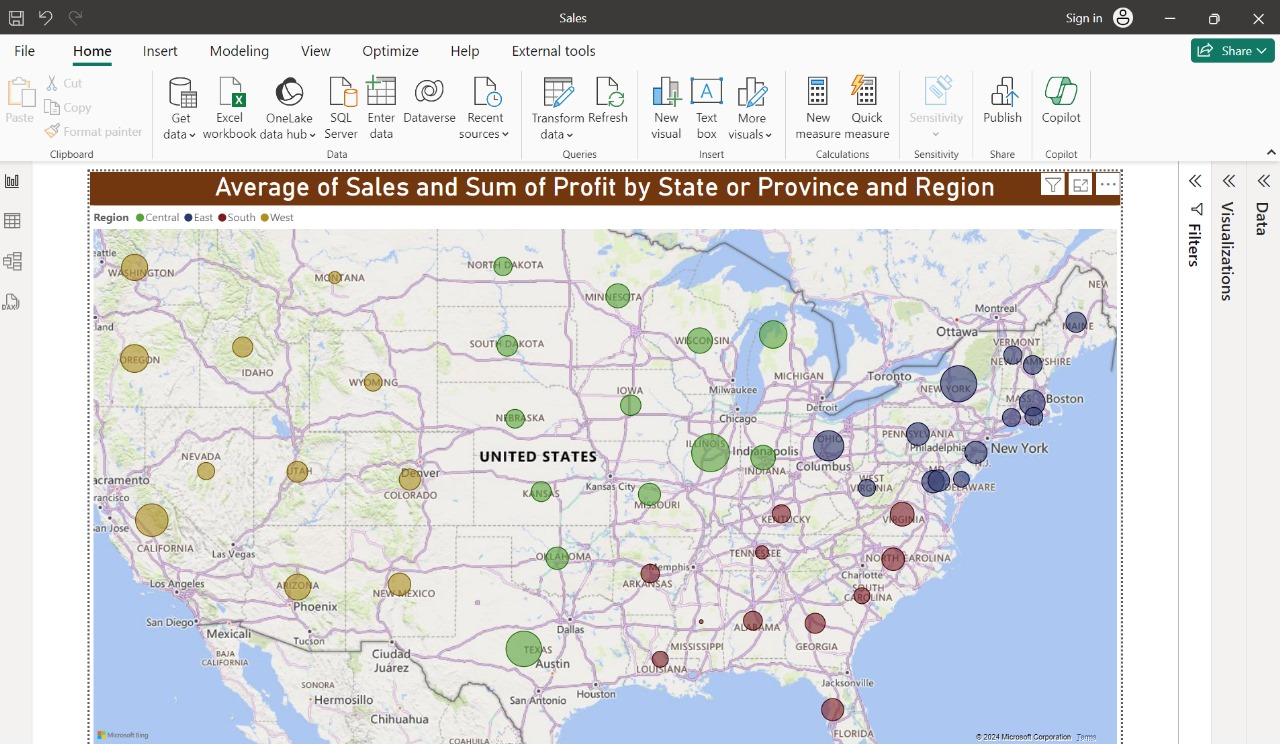

The page's visual inventory and layout, read from the dashboard file:
{"tool":"powerbi","page":{"name":"Page 2","canvas":[1280,720],"ordinal":1},"visuals":[{"type":"map","fields":{"Category":["Orders.State or Province"],"Series":["Orders.Region"],"Y":["Avg(Orders.Sales)"],"Size":["Sum(Orders.Profit)"]},"box":[0,0,1279.5,719.2],"z":0}]}

Visuals, with their boxes on the page's 1280x720 design canvas (x1, y1, x2, y2). These are canvas units, not pixel positions in the 1280x744 screenshot, which may show the page scaled, cropped or inside an application window:
map - Orders.State or Province x Orders.Region: crop(0, 0, 1280, 719)
